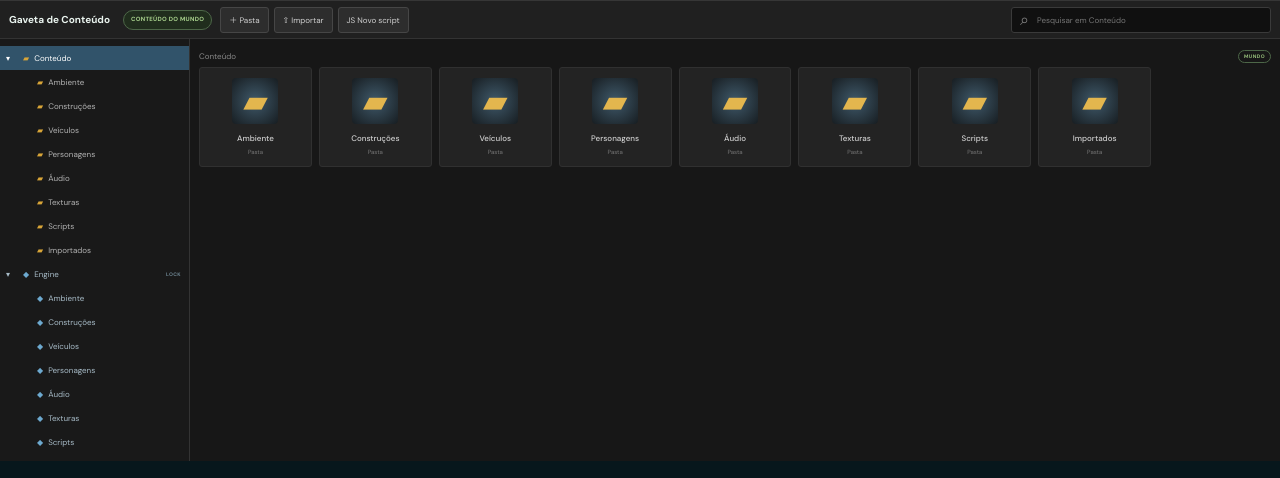
it: StudioContentDrawer › separa Conteúdo editável e Engine somente leitura
Click the button with class "content-folder-name" showing "◆ Engine LOCK". click: {"x": 106, "y": 274}
box: [23, 262, 189, 286]
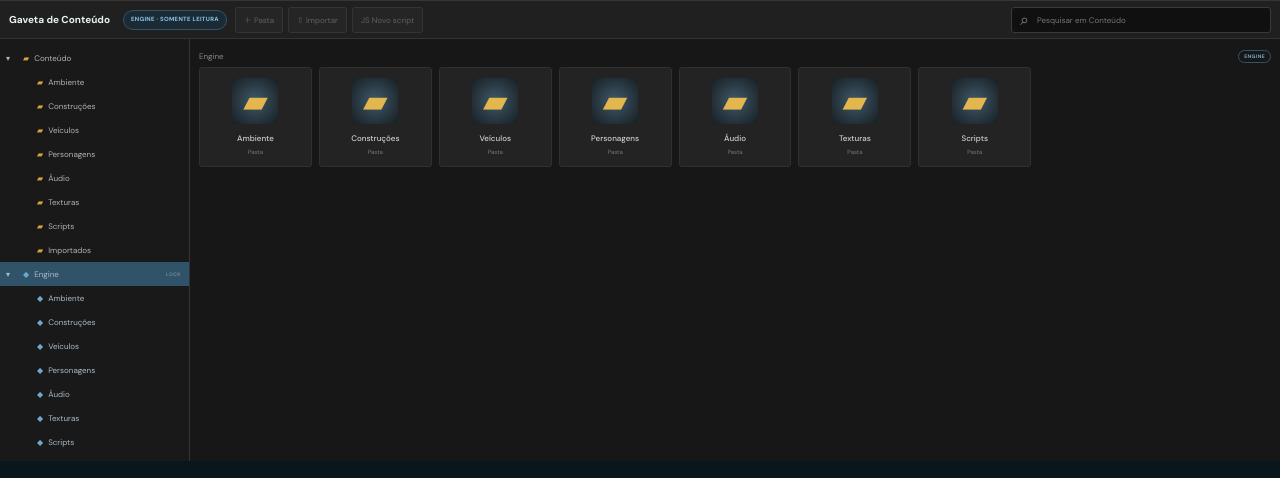
Expected: the text "Engine · somente leitura" is shown, [123, 10, 227, 30]
Expected: the button "＋ Pasta" is disabled, [235, 6, 283, 32]
Expected: the button "⇧ Importar" is disabled, [288, 6, 347, 32]
